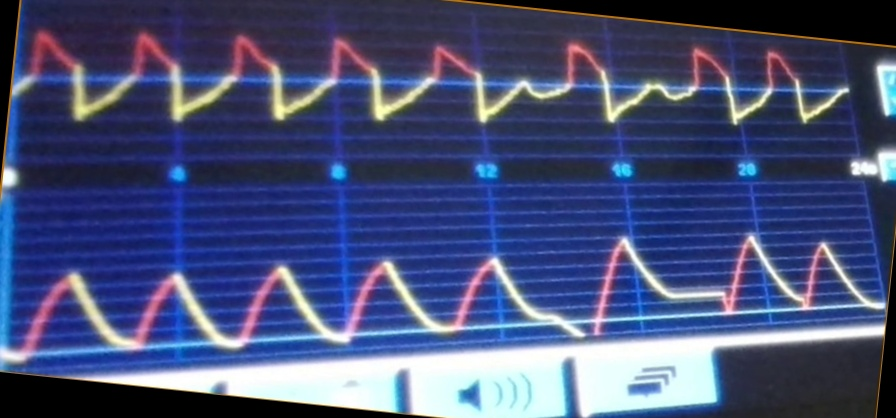Ineffective_effort Flow: (23, 24, 851, 134)
Ineffective_effort Volume: (13, 232, 881, 366)
